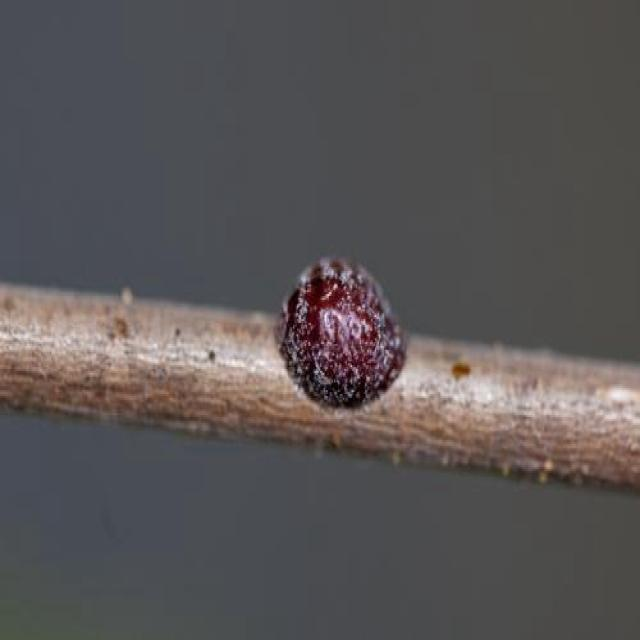BlackScale: (276, 255, 406, 408)
